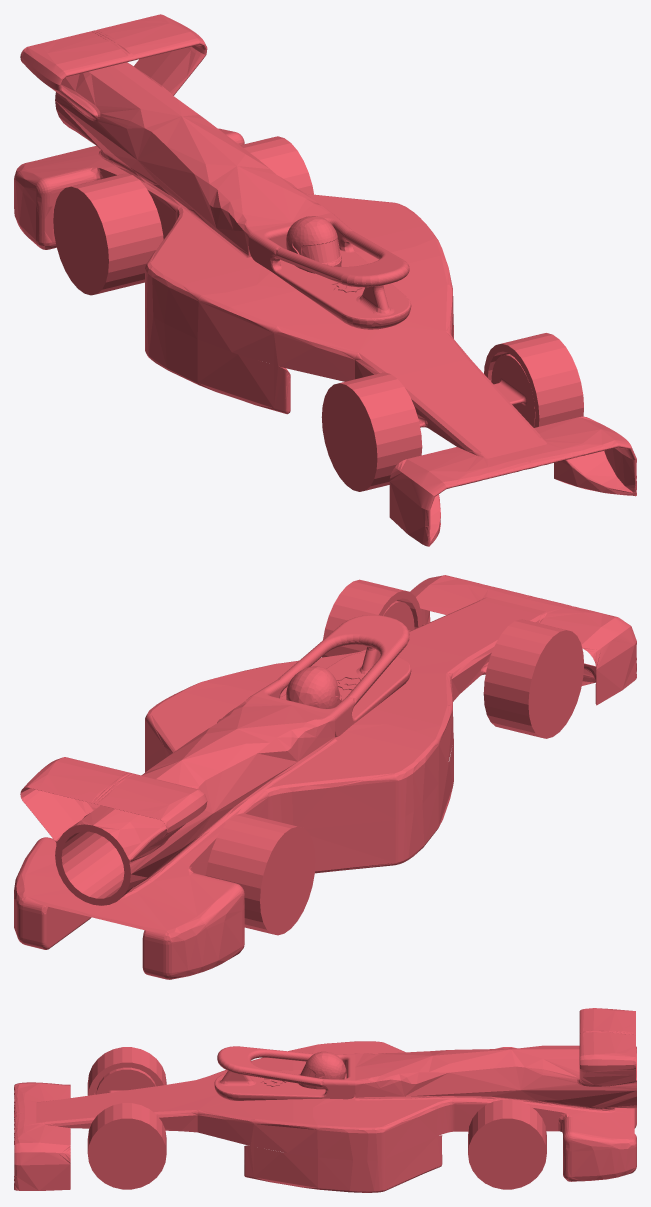
File: dragon-car.glb
3 renders of one model, top to bottom at view 1: azimuth 30°, elevation 25°; view 2: azimuth 150°, elevation 25°; view 3: azimuth 270°, elevation 25°, orthographic. The views are drawn at different scales.
Parts seen in each view (by area): view 1: car.stl; view 2: car.stl; view 3: car.stl.
Boxes of the visible parts, bbox=[...] form: car.stl: bbox=[14, 14, 636, 546]; car.stl: bbox=[14, 575, 636, 979]; car.stl: bbox=[14, 1008, 636, 1192].
Bounding box in the file's own units: 1.03 × 0.6526 × 3.
